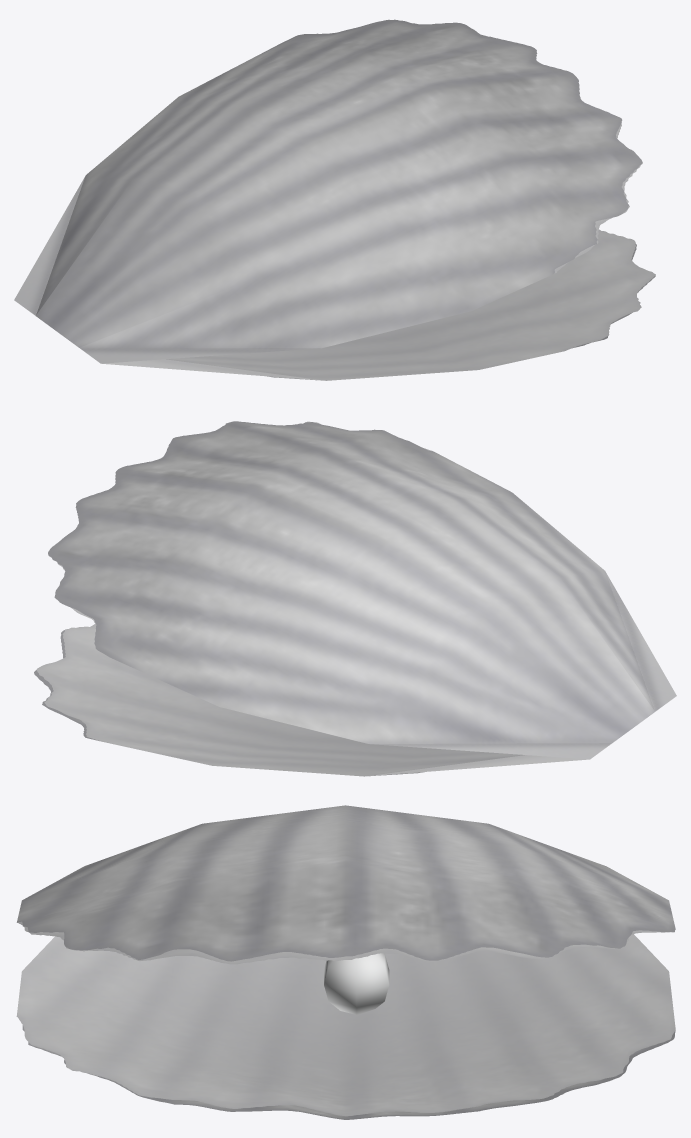
The model's file is shellHalfClose.fbx.
3 views of the same model, one above another, from view 1: azimuth 30°, elevation 25°; view 2: azimuth 150°, elevation 25°; view 3: azimuth 270°, elevation 25° (orthographic). The views are drawn at different scales.
Visible parts, largest first — view 1: shellHalfCloseObject; view 2: shellHalfCloseObject; view 3: shellHalfCloseObject.
Part boxes in pixels (x1=…): shellHalfCloseObject: x1=14, y1=19, x2=655, y2=380; shellHalfCloseObject: x1=34, y1=421, x2=676, y2=776; shellHalfCloseObject: x1=16, y1=805, x2=675, y2=1119.
Size of the model in its own units: 0.1825 by 0.0665 by 0.1692.
1 material, 1 textured.
